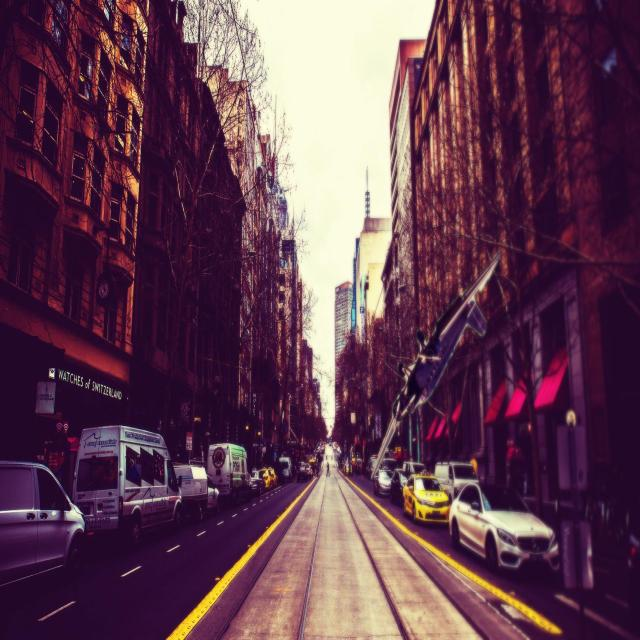airplane: (368, 250, 501, 482)
